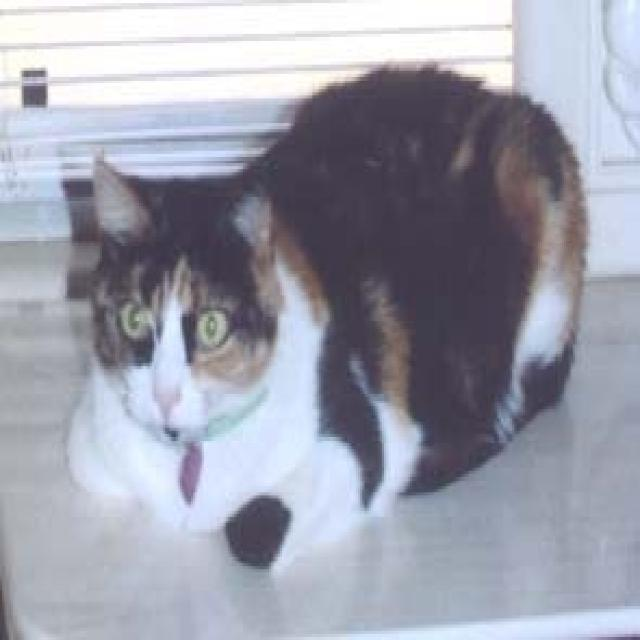Cats: (63, 59, 590, 566)
